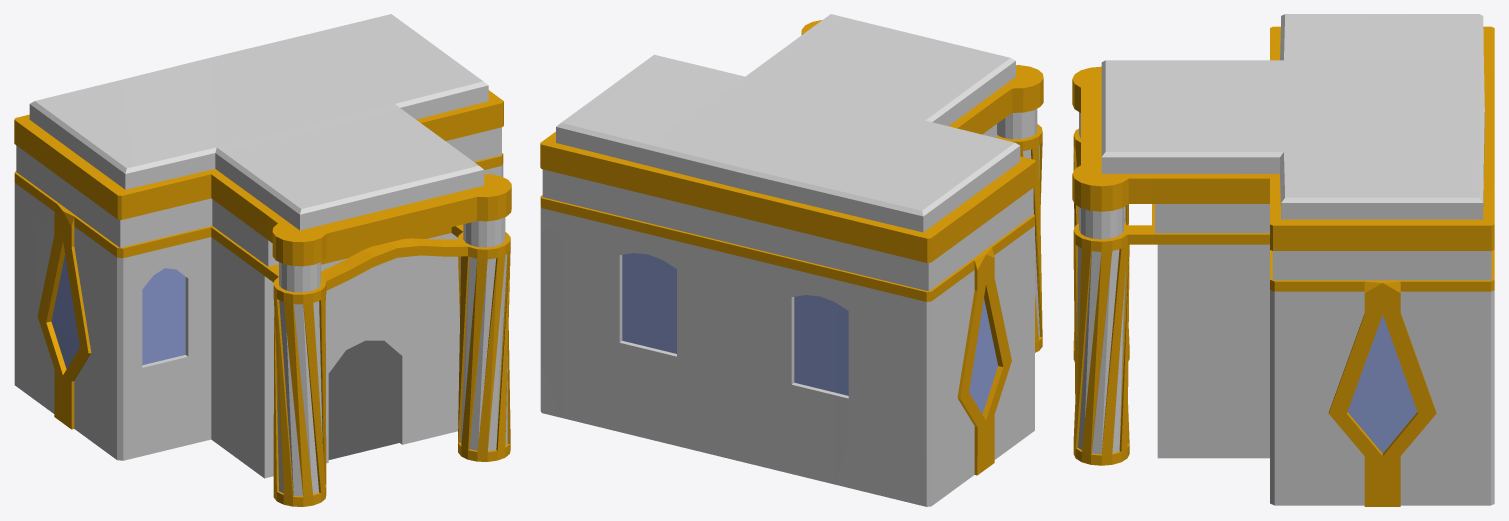
The model's file is AetherpunkBuilding04.fbx.
3 views of the same model, side by side, from view 1: azimuth 30°, elevation 25°; view 2: azimuth 150°, elevation 25°; view 3: azimuth 270°, elevation 25° (orthographic). The views are drawn at different scales.
Parts seen in each view (by area): view 1: Building04; view 2: Building04; view 3: Building04.
Boxes of the visible parts, box(x1,y1,x2,y2) form: Building04: box(14, 14, 511, 506); Building04: box(540, 14, 1043, 506); Building04: box(1072, 14, 1494, 506).
Size of the model in its own units: 584 by 405 by 516.
